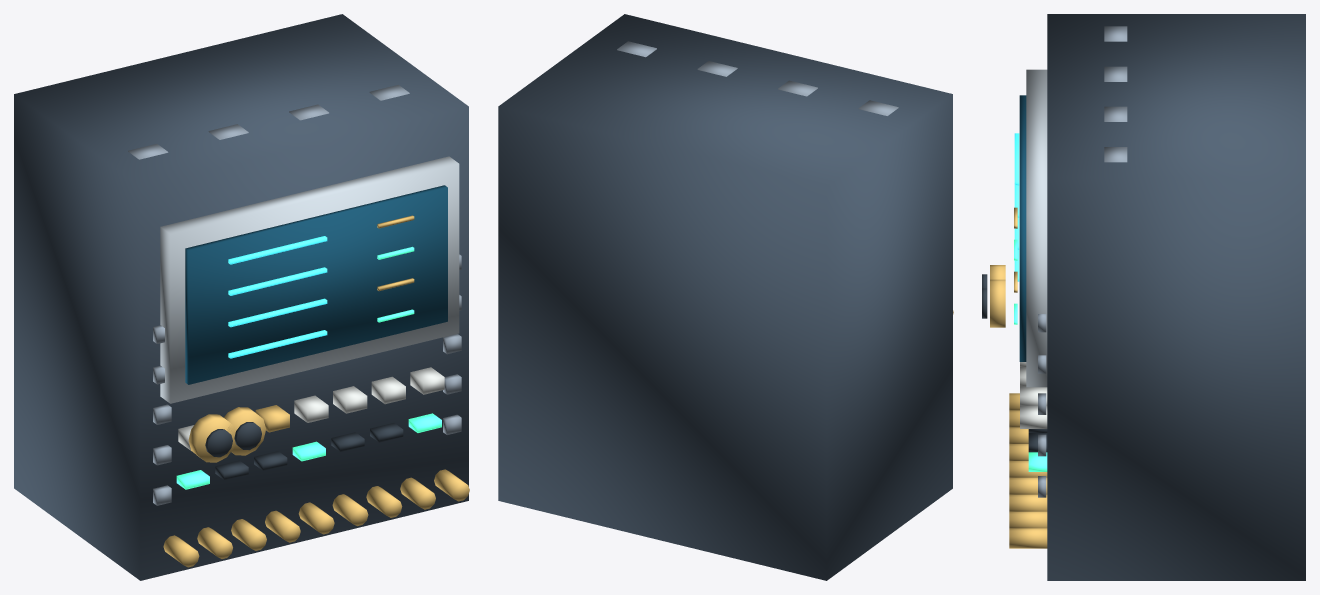
File: 74_L88_GasMixingAndSamplingStation.glb
3 views of the same model, side by side, from view 1: azimuth 30°, elevation 25°; view 2: azimuth 150°, elevation 25°; view 3: azimuth 270°, elevation 25° (orthographic). The views are drawn at different scales.
Parts seen in each view (by area): view 1: L87_GasMixingAndSamplingStati_Part_0000, L87_GasMixingAndSamplingStati_Part_0002, L87_GasMixingAndSamplingStati_Part_0001, L87_GasMixingAndSamplingStati_Part_0004, L87_GasMixingAndSamplingStati_Part_0008, L87_GasMixingAndSamplingStati_Part_0006, L87_GasMixingAndSamplingStati_Part_0003, L87_GasMixingAndSamplingStati_Part_0007, L87_GasMixingAndSamplingStati_Part_0005, L87_GasMixingAndSamplingStati_Part_0009, L87_GasMixingAndSamplingStati_Part_0011, L87_GasMixingAndSamplingStati_Part_0010 (+1 smaller); view 2: L87_GasMixingAndSamplingStati_Part_0000, L87_GasMixingAndSamplingStati_Part_0008; view 3: L87_GasMixingAndSamplingStati_Part_0000, L87_GasMixingAndSamplingStati_Part_0001, L87_GasMixingAndSamplingStati_Part_0004, L87_GasMixingAndSamplingStati_Part_0008, L87_GasMixingAndSamplingStati_Part_0002, L87_GasMixingAndSamplingStati_Part_0006, L87_GasMixingAndSamplingStati_Part_0011, L87_GasMixingAndSamplingStati_Part_0003, L87_GasMixingAndSamplingStati_Part_0005.
Boxes of the visible parts, x1,y1,x2,y2 form: L87_GasMixingAndSamplingStati_Part_0000: (14, 14, 468, 580); L87_GasMixingAndSamplingStati_Part_0002: (185, 185, 447, 384); L87_GasMixingAndSamplingStati_Part_0001: (160, 156, 459, 403); L87_GasMixingAndSamplingStati_Part_0004: (163, 215, 469, 567); L87_GasMixingAndSamplingStati_Part_0008: (128, 85, 461, 505); L87_GasMixingAndSamplingStati_Part_0006: (178, 367, 444, 450); L87_GasMixingAndSamplingStati_Part_0003: (228, 236, 327, 358); L87_GasMixingAndSamplingStati_Part_0007: (215, 423, 403, 480); L87_GasMixingAndSamplingStati_Part_0005: (176, 246, 441, 489); L87_GasMixingAndSamplingStati_Part_0009: (188, 414, 235, 462); L87_GasMixingAndSamplingStati_Part_0011: (224, 407, 265, 455); L87_GasMixingAndSamplingStati_Part_0010: (205, 429, 232, 457); L87_GasMixingAndSamplingStati_Part_0000: (498, 14, 952, 580); L87_GasMixingAndSamplingStati_Part_0008: (617, 41, 898, 115); L87_GasMixingAndSamplingStati_Part_0000: (1047, 14, 1305, 580); L87_GasMixingAndSamplingStati_Part_0001: (1026, 69, 1047, 387); L87_GasMixingAndSamplingStati_Part_0004: (1009, 207, 1047, 548); L87_GasMixingAndSamplingStati_Part_0008: (1038, 26, 1127, 497); L87_GasMixingAndSamplingStati_Part_0002: (1019, 95, 1026, 361); L87_GasMixingAndSamplingStati_Part_0006: (1020, 362, 1047, 428); L87_GasMixingAndSamplingStati_Part_0011: (990, 279, 1005, 327); L87_GasMixingAndSamplingStati_Part_0003: (1014, 133, 1019, 281); L87_GasMixingAndSamplingStati_Part_0005: (1014, 239, 1047, 471).
Bounding box in the file's own units: 1.04 × 1.2 × 0.8688.
